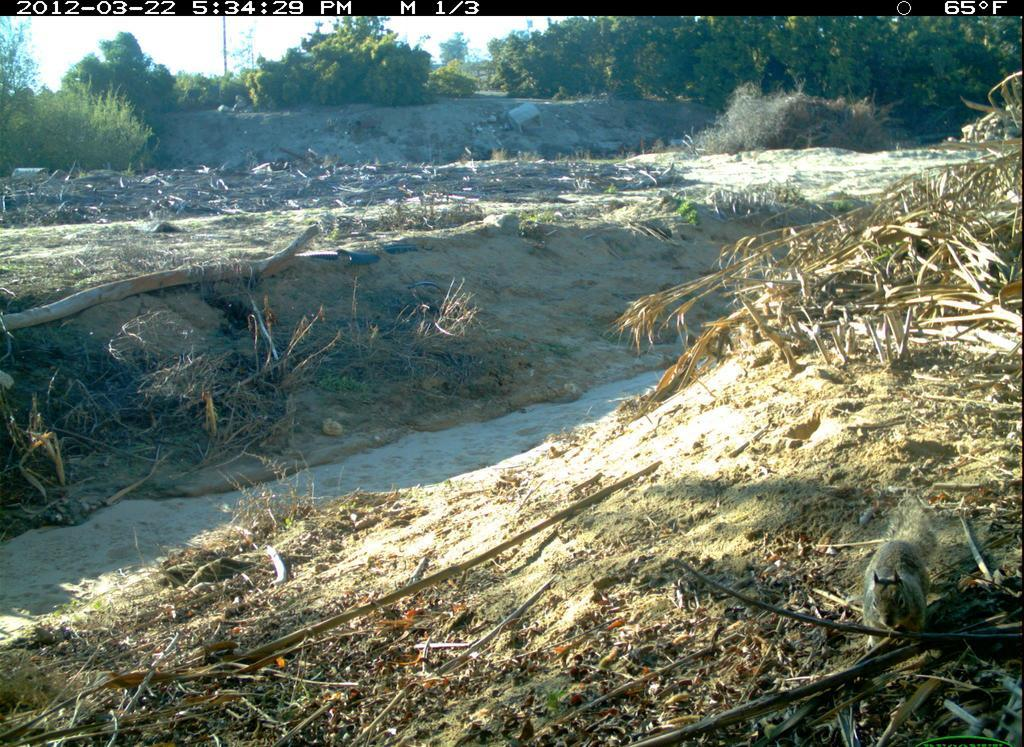squirrel: (850, 498, 954, 649)
